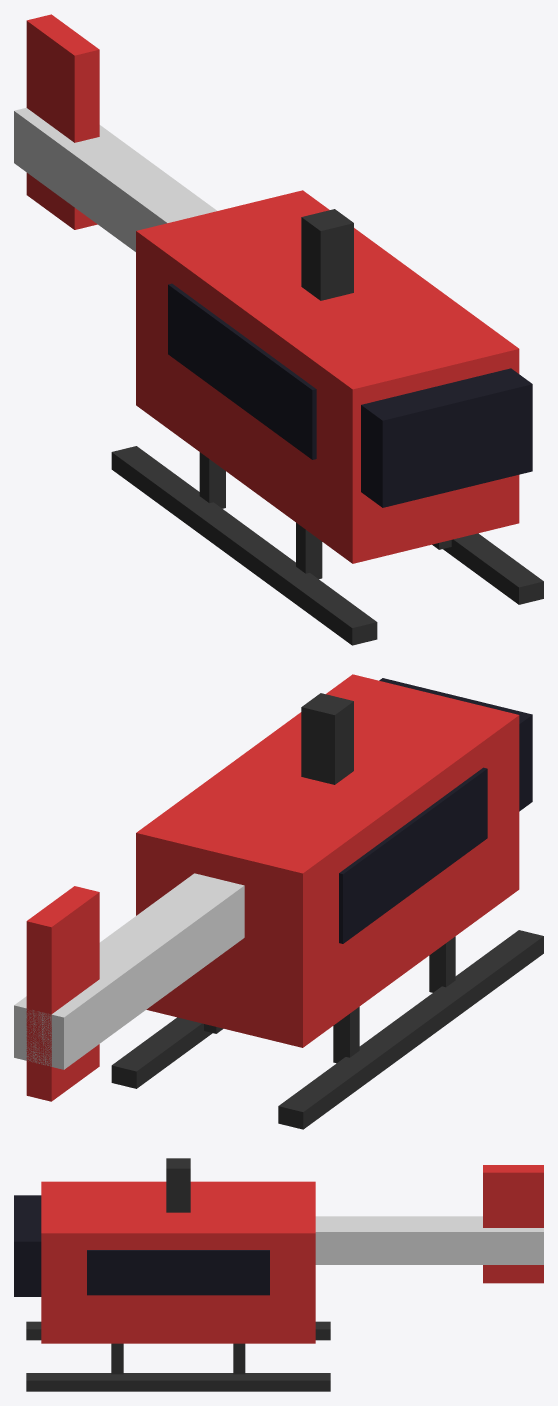
File: helicopter_body.obj
The picture shows the model from 3 angles, top to bottom: view 1: azimuth 30°, elevation 25°; view 2: azimuth 150°, elevation 25°; view 3: azimuth 270°, elevation 25°; orthographic projection. The views are drawn at different scales.
Bounding box in the file's own units: 2.3 × 3.6 × 8.7.
